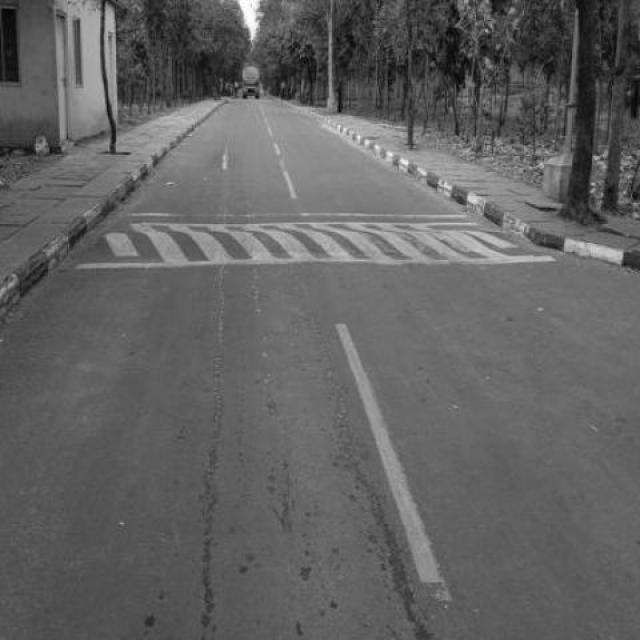Speed Bump: (102, 210, 482, 268)
